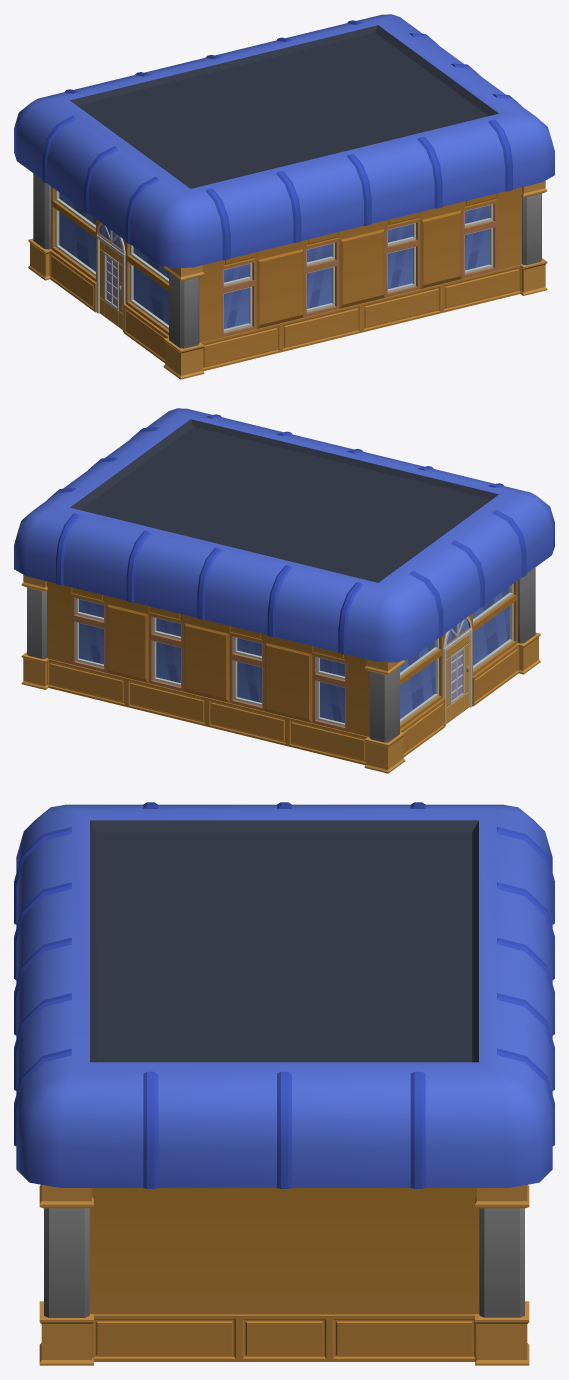
The model's file is Building_12_E.fbx.
The picture shows the model from 3 angles, top to bottom: view 1: azimuth 30°, elevation 25°; view 2: azimuth 150°, elevation 25°; view 3: azimuth 270°, elevation 25°; orthographic projection. The views are drawn at different scales.
Visible parts, largest first — view 1: Building_12_E; view 2: Building_12_E; view 3: Building_12_E.
Boxes of the visible parts, bbox=[...] form: Building_12_E: bbox=[14, 14, 554, 379]; Building_12_E: bbox=[14, 408, 554, 773]; Building_12_E: bbox=[14, 802, 554, 1365].
Size of the model in its own units: 1053 by 440 by 770.
